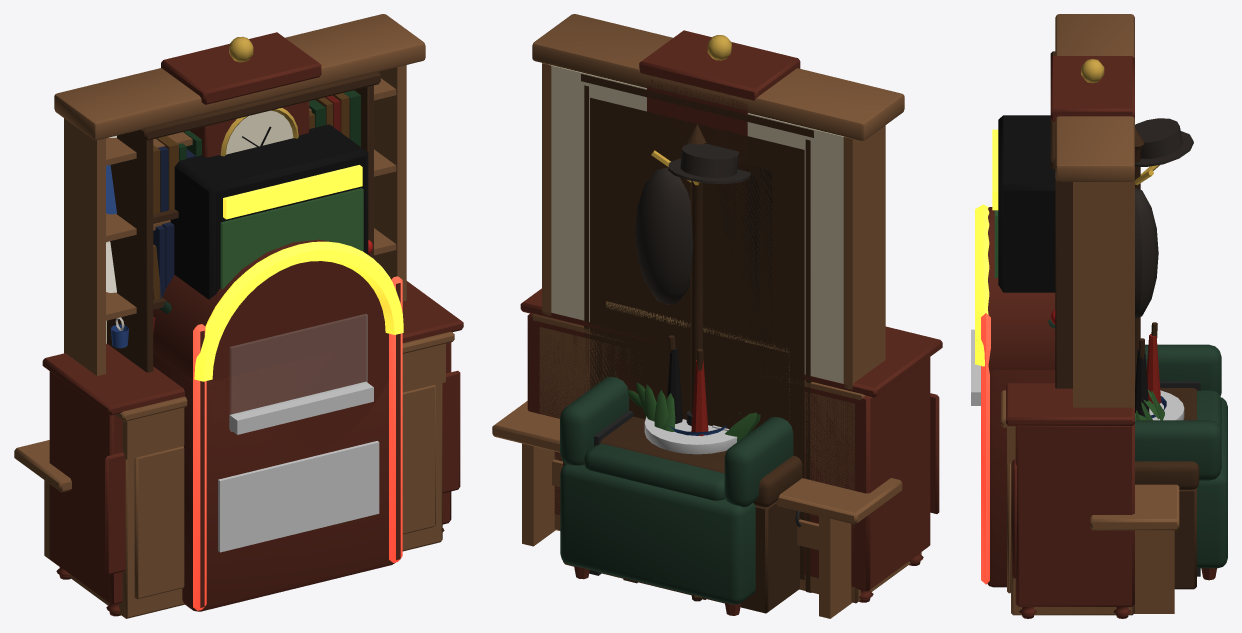
Rendered from furniture.glb.
3 views of the same model, side by side, from view 1: azimuth 30°, elevation 25°; view 2: azimuth 150°, elevation 25°; view 3: azimuth 270°, elevation 25° (orthographic). The views are drawn at different scales.
Parts seen in each view (by area): view 1: jukebox, welsh_dresser, fruit_machine, sideboard, bookcase, grandfather_clock, bench; view 2: welsh_dresser, bookcase, armchair_wingback, sideboard, bench, coat_stand, grandfather_clock, sea_chest, umbrella_stand, keg_steel, fruit_machine, aspidistra (+1 smaller); view 3: sideboard, welsh_dresser, jukebox, fruit_machine, armchair_wingback, bench, coat_stand, grandfather_clock, sea_chest, bookcase, umbrella_stand, keg_steel (+1 smaller).
Part boxes in pixels (box(x1,y1,x2,y2)): jukebox: box(153, 239, 403, 611); welsh_dresser: box(54, 14, 454, 618); fruit_machine: box(170, 124, 373, 434); sideboard: box(42, 281, 463, 616); bookcase: box(107, 71, 380, 372); grandfather_clock: box(161, 32, 321, 157); bench: box(14, 440, 71, 565); welsh_dresser: box(532, 14, 921, 603); bookcase: box(581, 74, 813, 592); armchair_wingback: box(560, 377, 793, 615); sideboard: box(520, 288, 942, 602); bench: box(492, 401, 902, 618); coat_stand: box(635, 124, 750, 601); grandfather_clock: box(639, 30, 800, 215); sea_chest: box(563, 410, 802, 613); umbrella_stand: box(667, 335, 726, 435); keg_steel: box(644, 411, 737, 454); fruit_machine: box(703, 164, 772, 374); aspidistra: box(627, 382, 760, 441); sideboard: box(1006, 383, 1134, 618); welsh_dresser: box(1001, 14, 1134, 615); jukebox: box(975, 204, 1055, 587); fruit_machine: box(971, 115, 1055, 405); armchair_wingback: box(1048, 319, 1227, 580); bench: box(1090, 484, 1179, 613); coat_stand: box(1135, 118, 1193, 386); grandfather_clock: box(1050, 56, 1134, 121); sea_chest: box(1135, 381, 1200, 589); bookcase: box(1050, 51, 1072, 388); umbrella_stand: box(1135, 322, 1166, 419); keg_steel: box(1135, 390, 1184, 420).
Bounding box in the file's own units: 1.6 × 2.16 × 1.04.
